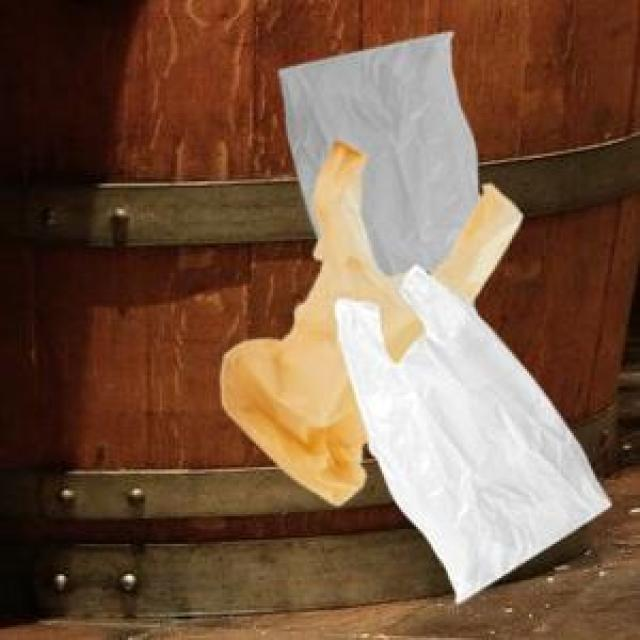waste: (221, 32, 609, 601)
